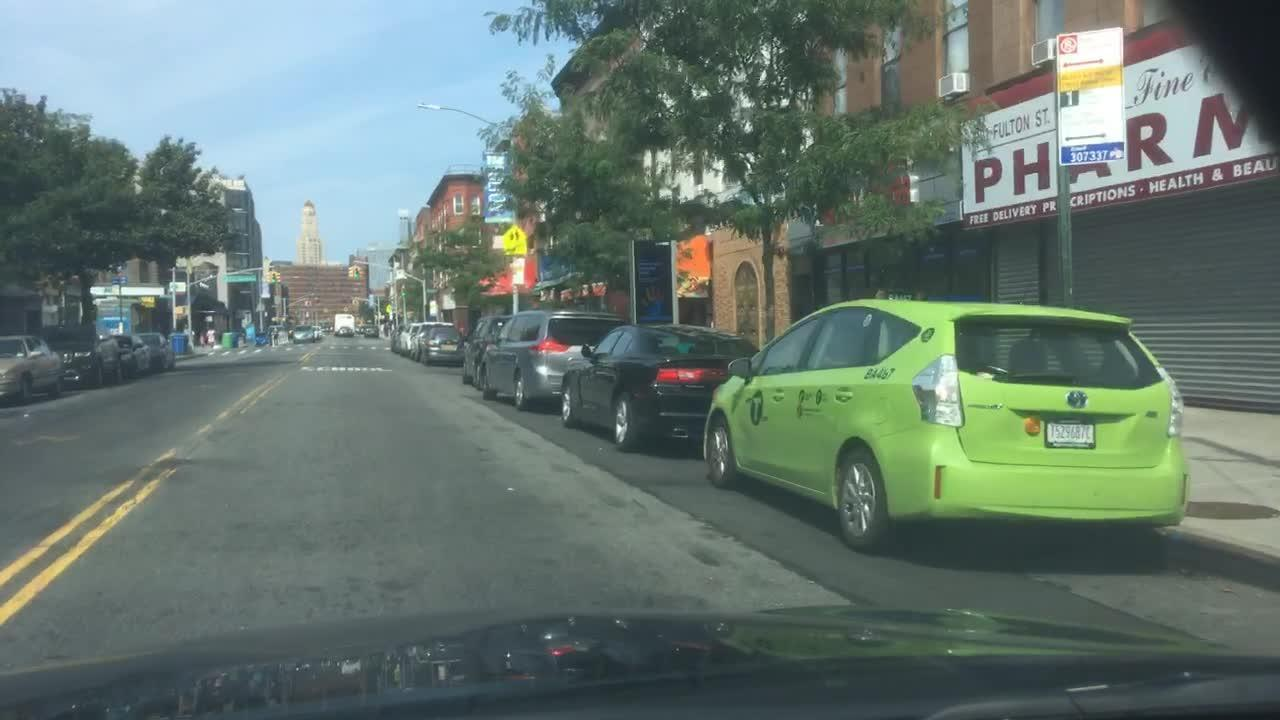Toyota: (1060, 383, 1098, 415)
